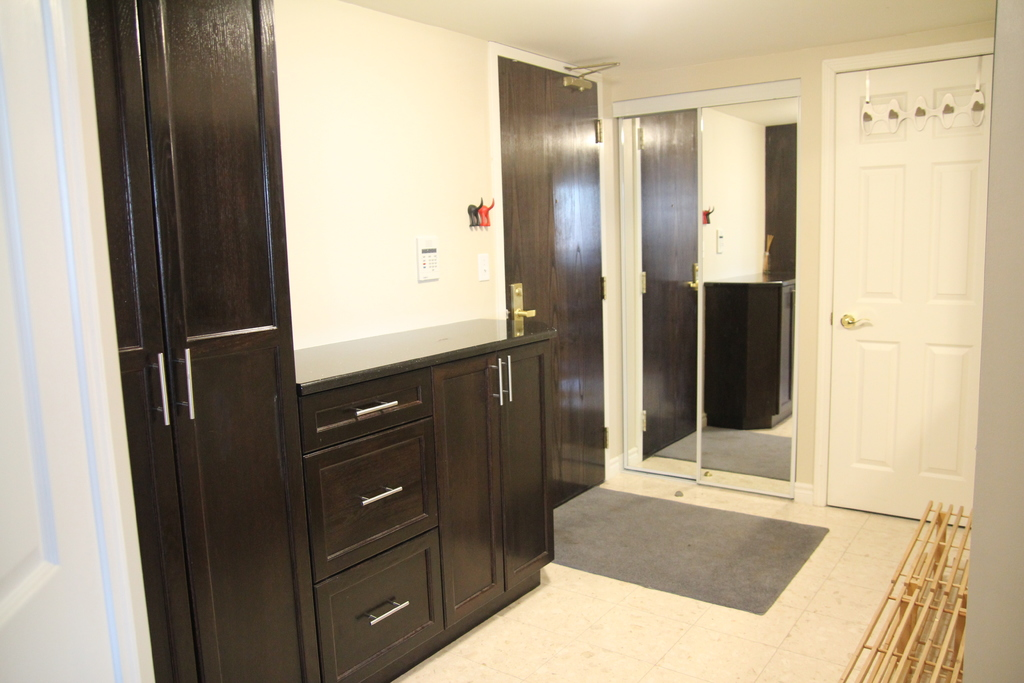cabinet door: (173, 34, 265, 662), (436, 375, 497, 596), (507, 350, 554, 562), (321, 453, 430, 538), (334, 564, 434, 646), (319, 384, 434, 438)
door: (849, 91, 989, 496), (553, 87, 606, 490), (648, 120, 692, 440)
handle: (141, 344, 173, 429), (172, 345, 204, 427), (348, 397, 407, 429), (350, 489, 409, 511), (366, 599, 412, 627), (502, 353, 520, 405), (840, 307, 872, 333), (491, 360, 504, 413), (513, 305, 540, 320), (683, 277, 699, 294)
